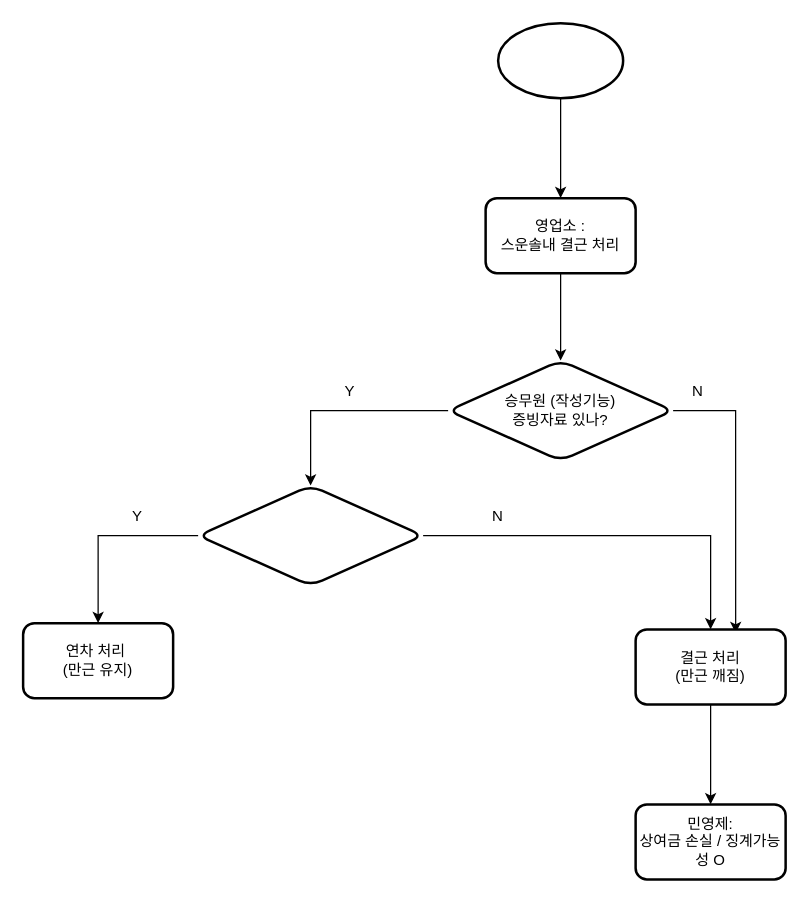
Image size: 808x901. Some labels were removed from this diagram. Here are the shapes that lost their labels. From the top down, the box of each, then its label:
(496, 21, 624, 99): 승무원 결근 통보
(196, 484, 424, 586): 인사부 : 승인했는가?
